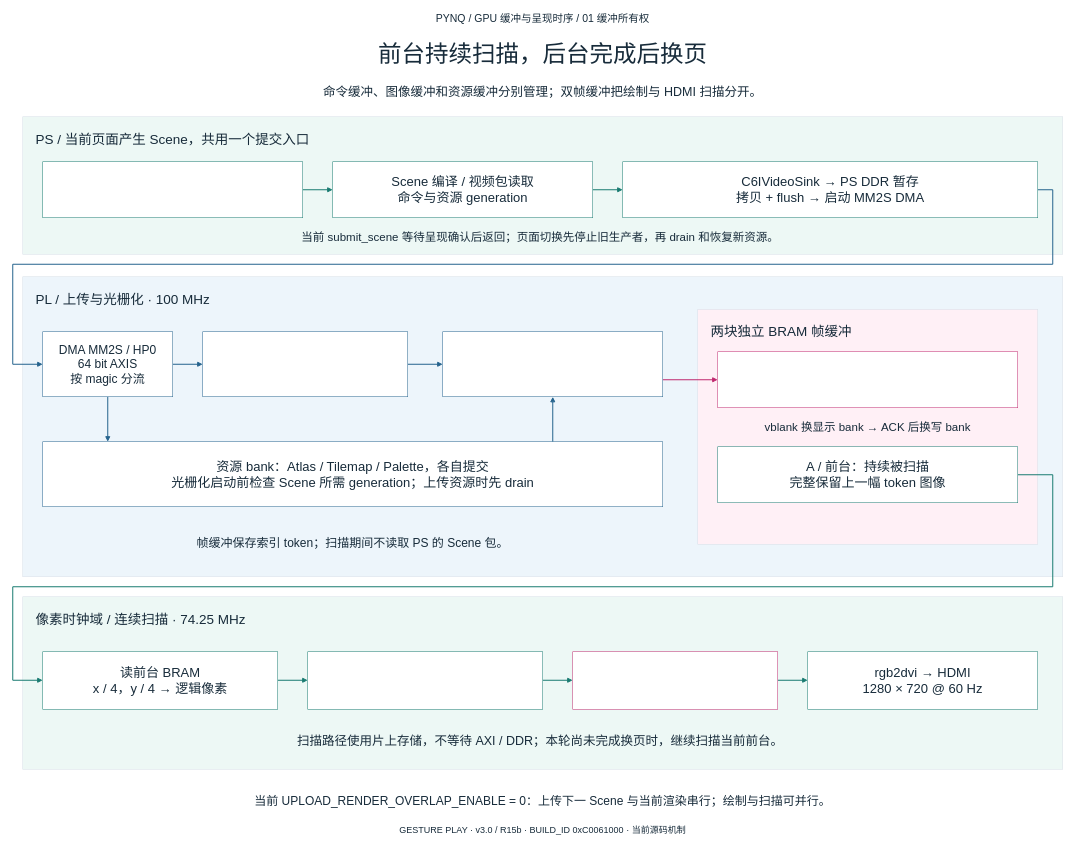
The diagram is 1072 pixels wide and 846 high, and some of its shapes have lost their labels. Each missing label, with the centre of its shape:
"B / 后台：本轮写入目标 320 × 180 × 8 bit = 56.25 KiB" goes at (867,379).
"token → RGB888 16 组 × 16 色查表" goes at (425,680).
"命令 bank 0 / 1 各 4 KiB · 上传完整后切换" goes at (305,364).
"命令解码 → 光栅化 CLEAR / BLIT / TILE / RECT" goes at (552,364).
"独立 OSD 覆盖 手圈继续同步" goes at (675,680).
"菜单 / 游戏 / 视频 / 画布 页面切换时交接提交权" goes at (172,189).
